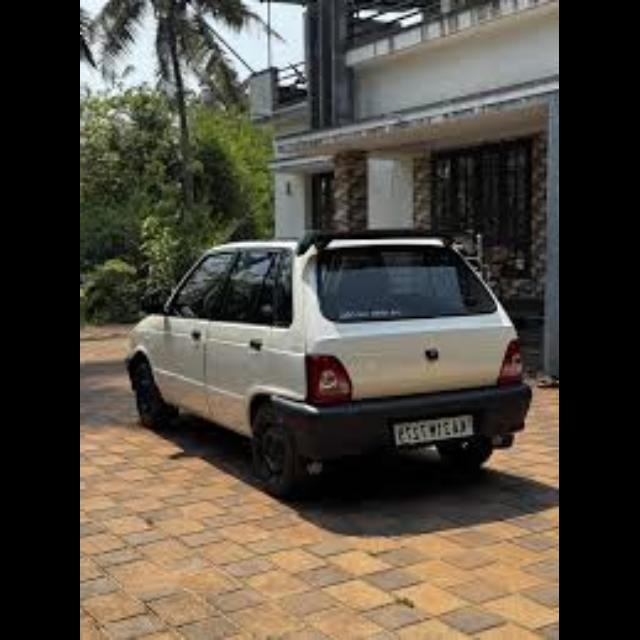vehicles: (114, 220, 536, 496)
